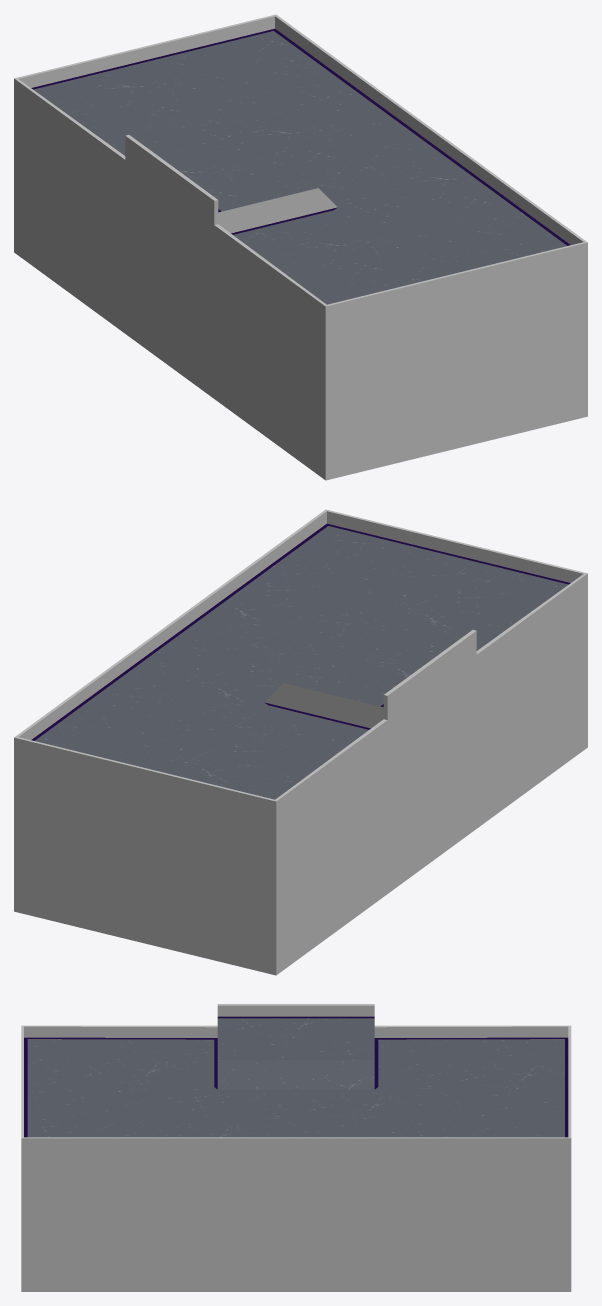
File: Duel_A1_Stage_Elavator.fbx
3 views of the same model, one above another, from view 1: azimuth 30°, elevation 25°; view 2: azimuth 150°, elevation 25°; view 3: azimuth 270°, elevation 25° (orthographic). The views are drawn at different scales.
Visible parts, largest first — view 1: Platform_Cube__1_.024, Platform_Cube__1_.025, Platform_Cube__1_.029; view 2: Platform_Cube__1_.024, Platform_Cube__1_.025, Platform_Cube__1_.029; view 3: Platform_Cube__1_.024, Platform_Cube__1_.025, Platform_Cube__1_.029.
Part boxes in pixels (x1,y1,x2,y2): Platform_Cube__1_.024: (14, 31, 587, 480); Platform_Cube__1_.025: (14, 14, 587, 318); Platform_Cube__1_.029: (31, 28, 570, 245); Platform_Cube__1_.024: (14, 526, 587, 975); Platform_Cube__1_.025: (14, 509, 587, 813); Platform_Cube__1_.029: (31, 523, 570, 740); Platform_Cube__1_.024: (21, 1018, 571, 1291); Platform_Cube__1_.025: (21, 1004, 571, 1149); Platform_Cube__1_.029: (24, 1016, 568, 1137).
Bounding box in the file's own units: 3400 × 2456 × 7307.
